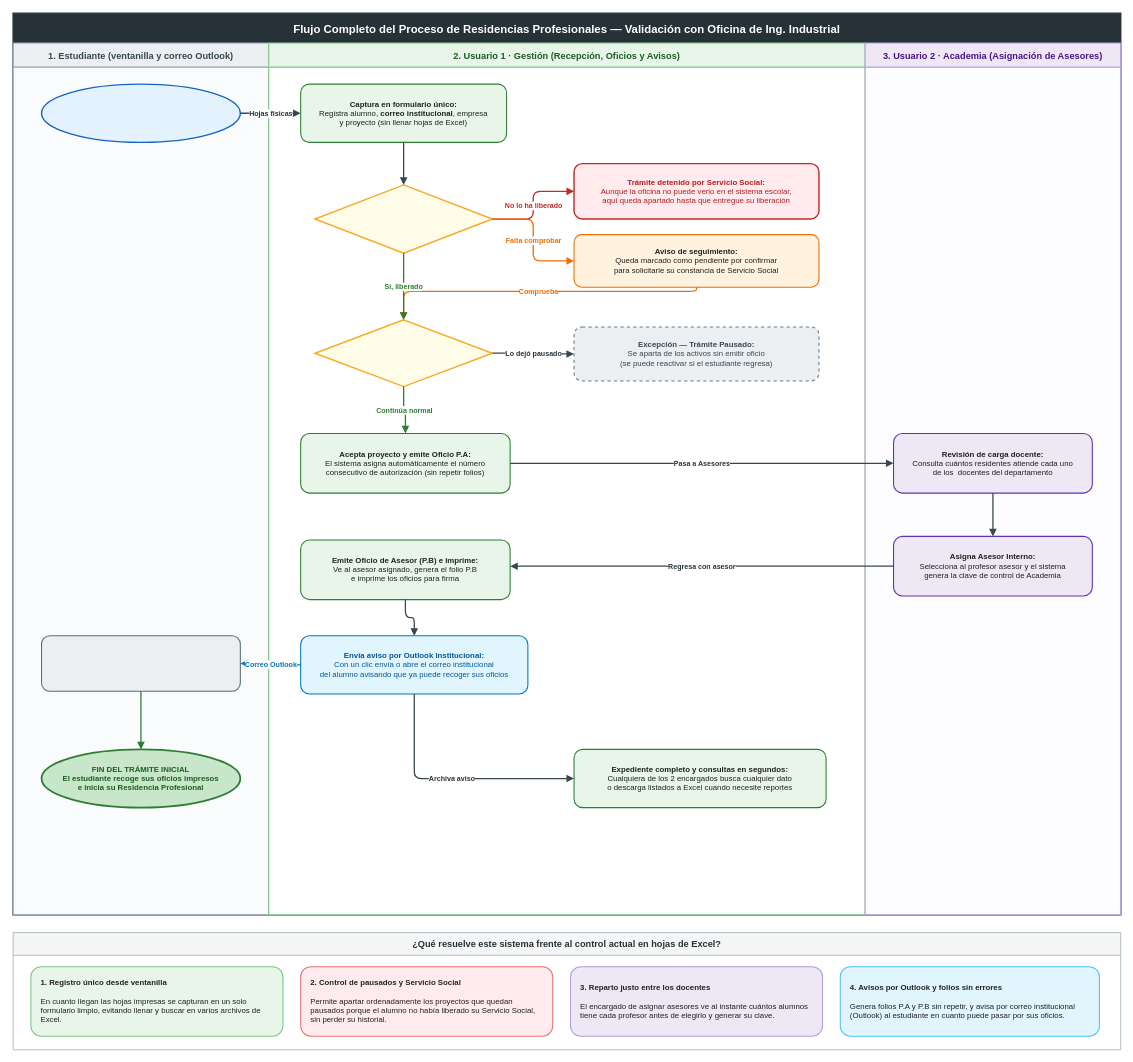
This 1133x1062 diagram has some shape labels left out. Here are the shapes that lost their labels. From the top down, the centre of each, then its label:
the point at 140,113: INICIO El estudiante entrega sus hojas impresas de anteproyecto en la oficina
the point at 403,218: ¿Tiene Servicio Social liberado o falta comprobar?
the point at 403,353: ¿El alumno continúa o dejó el trámite pausado?
the point at 141,663: Recibe aviso en su correo institucional (Outlook) para pasar por sus oficios
